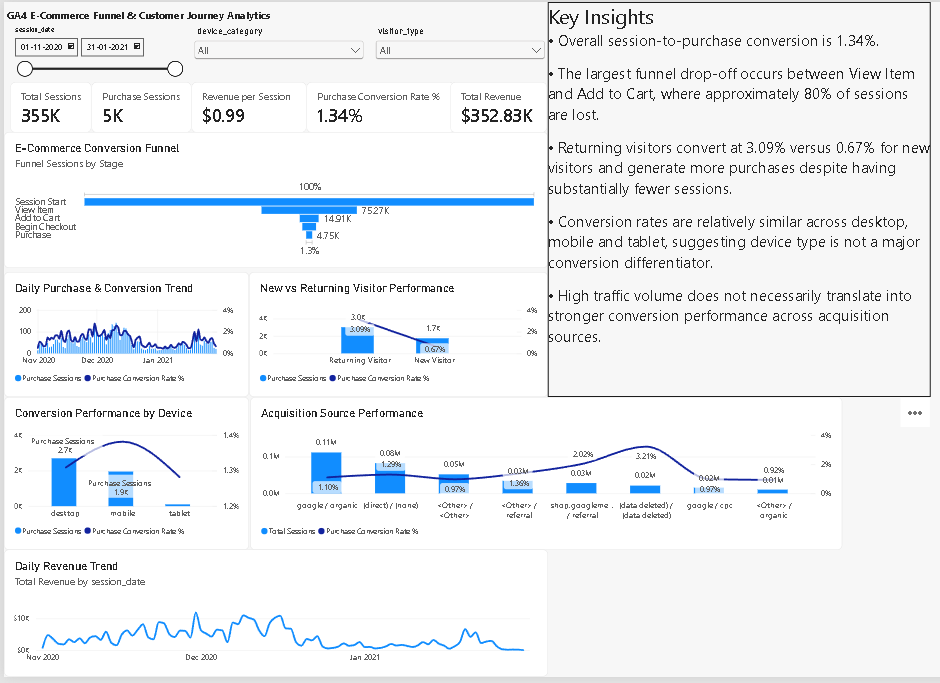

What the dashboard file says about the page in this screenshot:
{"tool":"powerbi","page":{"name":"Page 1","canvas":[1920,1080],"ordinal":0},"visuals":[{"type":"cardVisual","fields":{"Data":["Measures (2).Total Sessions"]},"box":[10,128.4,130,81.1],"z":0},{"type":"cardVisual","fields":{"Data":["Measures (2).Purchase Sessions"]},"box":[140,128.4,160,81.1],"z":1000},{"type":"cardVisual","fields":{"Data":["Measures (2).Purchase Conversion Rate %"]},"box":[484.4,128.4,237.8,81.1],"z":2000},{"type":"cardVisual","fields":{"Data":["Measures (2).Total Revenue"]},"box":[714.4,128.4,155.6,81.1],"z":3000},{"type":"cardVisual","fields":{"Data":["Measures (2).Revenue per Session"]},"box":[300,128.4,184.4,81.1],"z":4000},{"type":"funnel","title":"E-Commerce Conversion Funnel","fields":{"Category":["FunnelStages.Stage"],"Y":["Measures (2).Funnel Sessions"]},"box":[0,208.4,870,217.8],"z":5000},{"type":"lineClusteredColumnComboChart","title":"Daily Purchase & Conversion Trend","fields":{"Category":["Sessions.session_date"],"Y":["Measures (2).Purchase Sessions"],"Y2":["Measures (2).Purchase Conversion Rate %"]},"box":[0,431.7,391.7,200],"z":6000},{"type":"lineClusteredColumnComboChart","title":"New vs Returning Visitor Performance","fields":{"Category":["Sessions.visitor_type"],"Y":["Measures (2).Purchase Sessions"],"Y2":["Measures (2).Purchase Conversion Rate %"]},"box":[391.7,431.7,478.3,200],"z":7000},{"type":"lineStackedColumnComboChart","title":"Conversion Performance by Device","fields":{"Category":["Sessions.device_category"],"Y":["Measures (2).Purchase Sessions"],"Y2":["Measures (2).Purchase Conversion Rate %"]},"box":[0,632.2,392.2,244.4],"z":8000},{"type":"lineClusteredColumnComboChart","title":"Acquisition Source Performance","fields":{"Category":["Sessions.Source / Medium"],"Y":["Measures (2).Total Sessions"],"Y2":["Measures (2).Purchase Conversion Rate %"]},"box":[393.1,631.9,946.8,244.9],"z":9000},{"type":"lineChart","title":"Daily Revenue Trend","fields":{"Category":["Sessions.session_date"],"Y":["Measures (2).Total Revenue"]},"box":[0,876.7,870,203.3],"z":10000},{"type":"slicer","fields":{"Values":["Sessions.session_date"]},"box":[10,38.3,280,90],"z":11000},{"type":"slicer","fields":{"Values":["Sessions.device_category"]},"box":[300,38.4,280,90],"z":12000},{"type":"slicer","fields":{"Values":["Sessions.visitor_type"]},"box":[590,38.4,280,90],"z":13000},{"type":"textbox","box":[0,8.3,866.7,30],"z":14000},{"type":"textbox","box":[870.7,0,613.4,631.9],"z":15000}]}

Visuals, with their boxes on the page's 1920x1080 design canvas (x1, y1, x2, y2). These are canvas units, not pixel positions in the 940x683 screenshot, which may show the page scaled, cropped or inside an application window:
cardVisual - Measures (2).Total Sessions: select_region(10, 128, 140, 210)
cardVisual - Measures (2).Purchase Sessions: select_region(140, 128, 300, 210)
cardVisual - Measures (2).Purchase Conversion Rate %: select_region(484, 128, 722, 210)
cardVisual - Measures (2).Total Revenue: select_region(714, 128, 870, 210)
cardVisual - Measures (2).Revenue per Session: select_region(300, 128, 484, 210)
"E-Commerce Conversion Funnel" funnel: select_region(0, 208, 870, 426)
"Daily Purchase & Conversion Trend" lineClusteredColumnComboChart: select_region(0, 432, 392, 632)
"New vs Returning Visitor Performance" lineClusteredColumnComboChart: select_region(392, 432, 870, 632)
"Conversion Performance by Device" lineStackedColumnComboChart: select_region(0, 632, 392, 877)
"Acquisition Source Performance" lineClusteredColumnComboChart: select_region(393, 632, 1340, 877)
"Daily Revenue Trend" lineChart: select_region(0, 877, 870, 1080)
slicer - Sessions.session_date: select_region(10, 38, 290, 128)
slicer - Sessions.device_category: select_region(300, 38, 580, 128)
slicer - Sessions.visitor_type: select_region(590, 38, 870, 128)
textbox: select_region(0, 8, 867, 38)
textbox: select_region(871, 0, 1484, 632)
